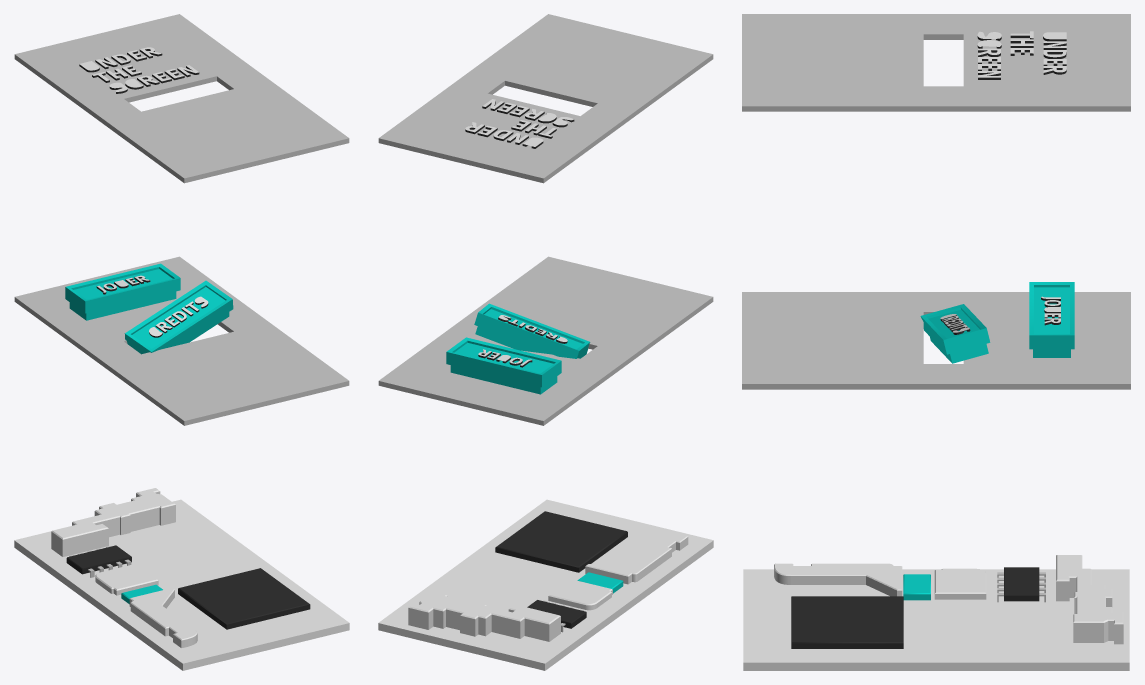
File: UnderTheScreen_3.0.fbx
3 views of the same model, side by side, from view 1: azimuth 30°, elevation 25°; view 2: azimuth 150°, elevation 25°; view 3: azimuth 270°, elevation 25° (orthographic). The views are drawn at different scales.
Visible parts, largest first — view 1: Layer01, Layer02, Layer03, battery, BoutonJouer, BoutonCredits, Cache02, Cap_2_5, Cap_1, Cap_2_6, Chip, UNDER (+2 smaller); view 2: Layer01, Layer02, Layer03, battery, BoutonJouer, BoutonCredits, Cache02, Cap_2_5, Cap_1, Cap_2_6, UNDER, Cap_2_4 (+2 smaller); view 3: Layer01, Layer02, Layer03, battery, BoutonJouer, BoutonCredits, Cap_2_5, Cap_2_6, Cap_1, Cache02, Chip, Cap_2_4 (+3 smaller).
Boxes of the visible parts, x1=… form: Layer01: x1=14, y1=14, x2=349, y2=183; Layer02: x1=14, y1=256, x2=349, y2=425; Layer03: x1=14, y1=499, x2=349, y2=670; battery: x1=178, y1=568, x2=310, y2=629; BoutonJouer: x1=65, y1=263, x2=180, y2=320; BoutonCredits: x1=124, y1=280, x2=233, y2=354; Cache02: x1=51, y1=491, x2=175, y2=556; Cap_2_5: x1=53, y1=488, x2=173, y2=537; Cap_1: x1=79, y1=47, x2=198, y2=91; Cap_2_6: x1=131, y1=588, x2=196, y2=638; Chip: x1=66, y1=545, x2=131, y2=574; UNDER: x1=79, y1=49, x2=199, y2=93; Layer01: x1=378, y1=14, x2=713, y2=183; Layer02: x1=378, y1=256, x2=713, y2=425; Layer03: x1=378, y1=499, x2=713, y2=670; battery: x1=495, y1=511, x2=627, y2=572; BoutonJouer: x1=446, y1=337, x2=561, y2=394; BoutonCredits: x1=474, y1=303, x2=590, y2=358; Cache02: x1=408, y1=596, x2=560, y2=641; Cap_2_5: x1=410, y1=592, x2=558, y2=622; Cap_1: x1=465, y1=99, x2=573, y2=146; Cap_2_6: x1=587, y1=533, x2=686, y2=575; UNDER: x1=465, y1=101, x2=574, y2=148; Cap_2_4: x1=550, y1=579, x2=610, y2=603; Layer01: x1=742, y1=14, x2=1130, y2=111; Layer02: x1=742, y1=292, x2=1130, y2=389; Layer03: x1=743, y1=569, x2=1129, y2=670; battery: x1=791, y1=596, x2=903, y2=648; BoutonJouer: x1=1029, y1=282, x2=1074, y2=357; BoutonCredits: x1=920, y1=304, x2=990, y2=363; Cap_2_5: x1=1057, y1=555, x2=1122, y2=622; Cap_2_6: x1=775, y1=563, x2=901, y2=589; Cap_1: x1=977, y1=31, x2=1066, y2=77; Cache02: x1=1056, y1=578, x2=1123, y2=644; Chip: x1=1004, y1=567, x2=1039, y2=601; Cap_2_4: x1=936, y1=568, x2=985, y2=592.
Bounding box in the file's own units: 360 × 1019 × 634.
